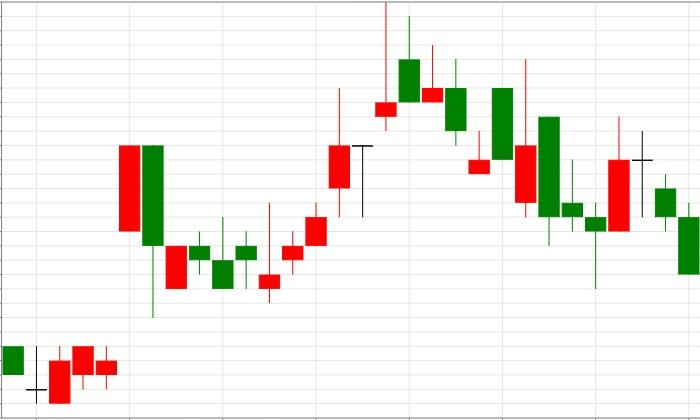bearish_engulfing_fall: (49, 144, 164, 404)
